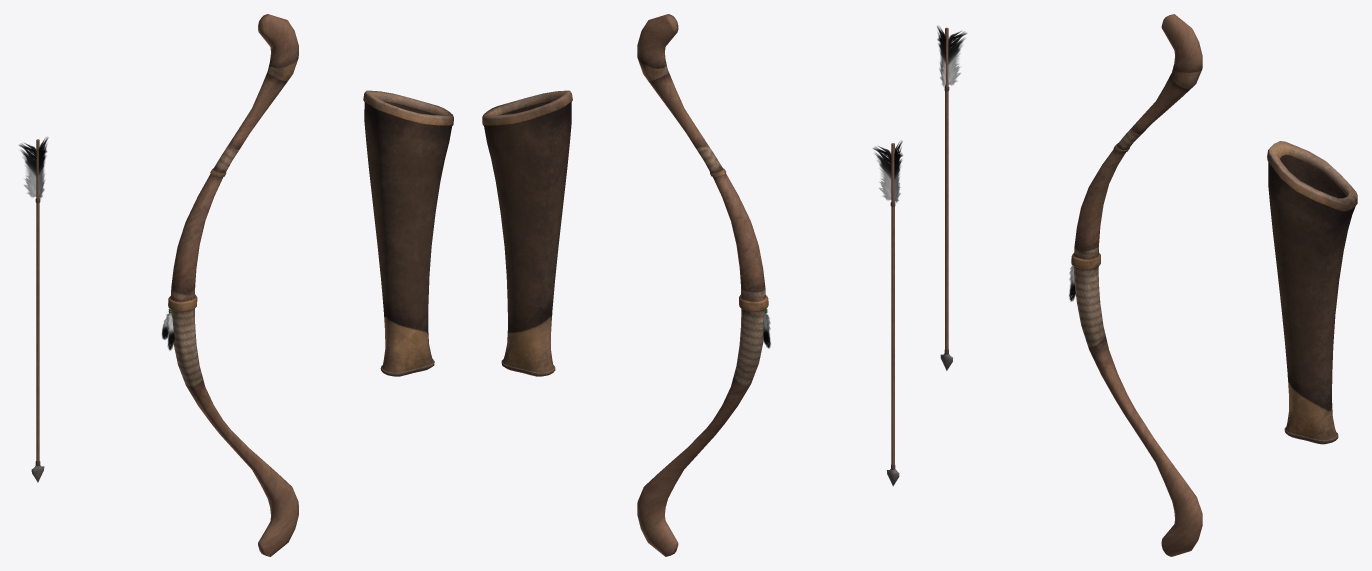
File: tribal_basic_bow.glb
3 renders of one model, left to right at view 1: azimuth 30°, elevation 25°; view 2: azimuth 150°, elevation 25°; view 3: azimuth 330°, elevation 25°, orthographic.
Visible parts, largest first — view 1: quiver, ectra1, arrow; view 2: quiver, ectra1, arrow; view 3: quiver, ectra1, arrow.
Part boxes in pixels (x1=…): quiver: x1=363, y1=90, x2=453, y2=376; ectra1: x1=162, y1=14, x2=298, y2=556; arrow: x1=19, y1=137, x2=48, y2=482; quiver: x1=482, y1=90, x2=572, y2=376; ectra1: x1=637, y1=14, x2=770, y2=556; arrow: x1=873, y1=140, x2=902, y2=486; quiver: x1=1267, y1=141, x2=1357, y2=444; ectra1: x1=1069, y1=14, x2=1202, y2=556; arrow: x1=937, y1=26, x2=966, y2=370.
Bounding box in the file's own units: 105 × 127 × 12.91.
Materials: 1 (1 with a texture image).
